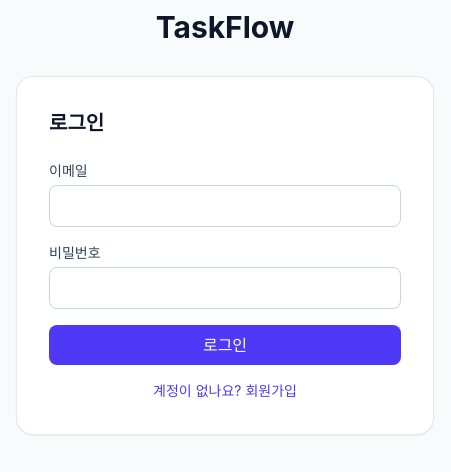
Test: 회원가입 화면 › 전환 버튼을 누르면 회원가입 폼을 보여주고, 다시 로그인으로 돌아갈 수 있다
Click the button "계정이 없나요? 회원가입": point(225, 391) x1=49 y1=381 x2=401 y2=401
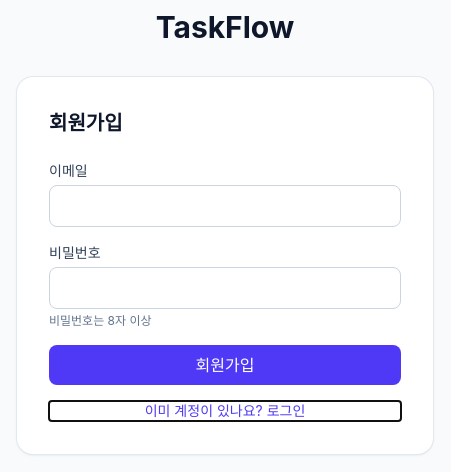
Expected: the heading "회원가입" is shown, x1=49 y1=111 x2=123 y2=135
Expected: the text "비밀번호는 8자 이상" is shown, x1=49 y1=313 x2=152 y2=328
Click the button "이미 계정이 있나요? 로그인": point(225, 411) x1=49 y1=401 x2=401 y2=421
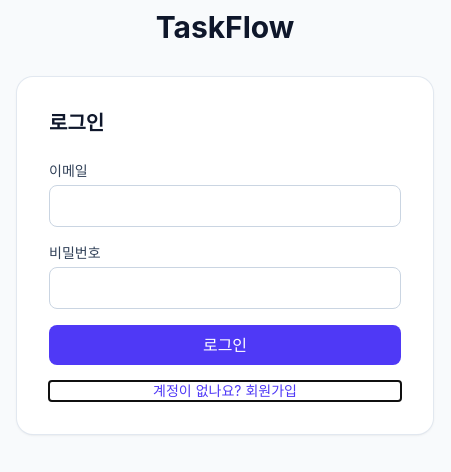
Expected: the heading "로그인" is shown, x1=49 y1=111 x2=104 y2=135
